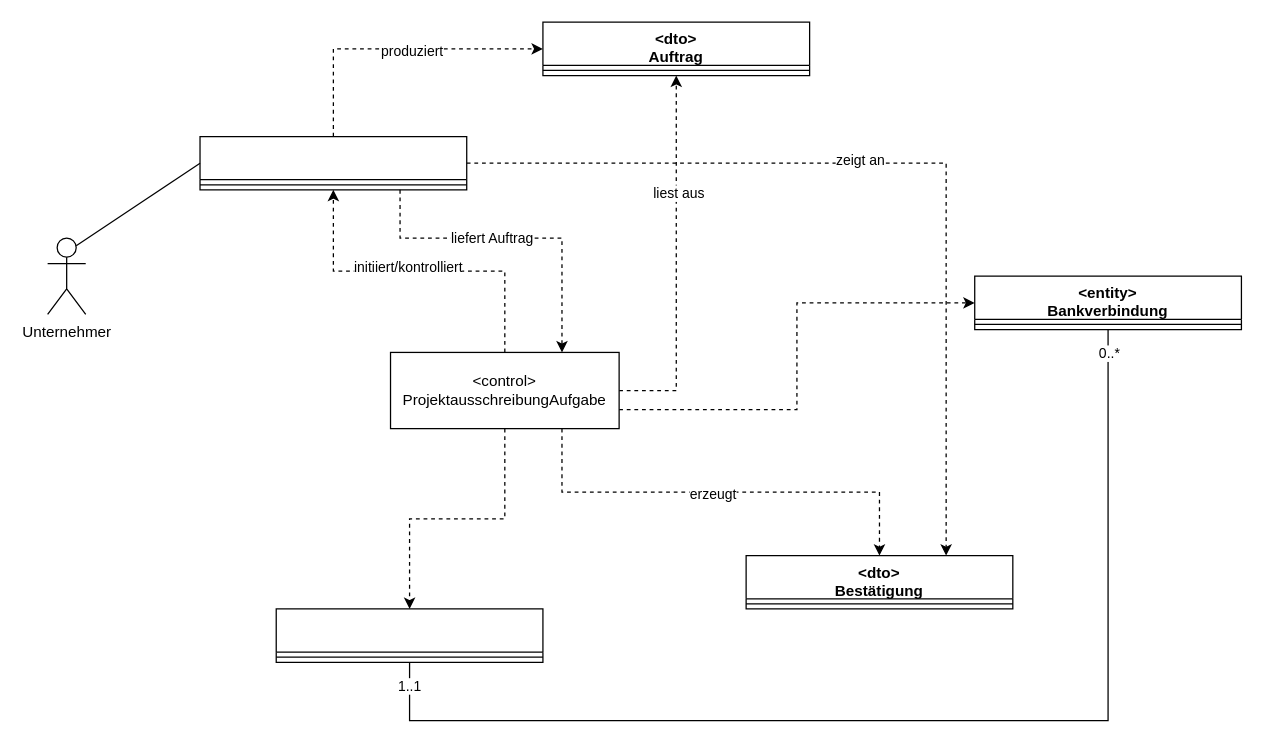
Image size: 1264x744. Some labels were removed from this diagram. Each missing label, with the box of its shape:
<boundary> EingabeseiteProjektausschreibung: (199, 135, 467, 190)
<entity> Projektausschreibung: (275, 608, 543, 662)
